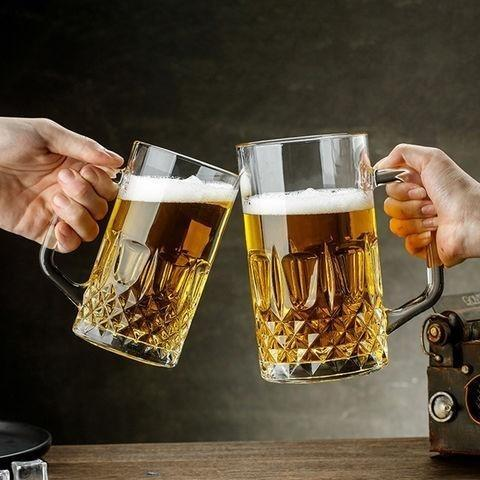glass-mug: (234, 125, 447, 388), (37, 132, 241, 372)
